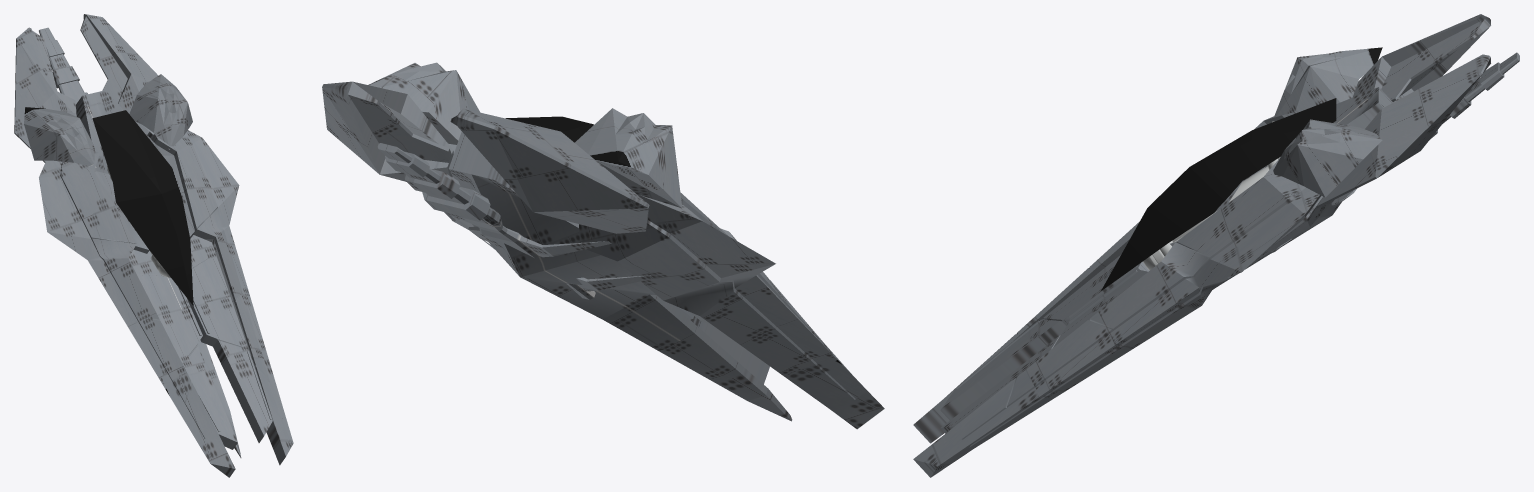
File: wecl4.fbx
The picture shows the model from 3 angles, left to right: view 1: azimuth 30°, elevation 25°; view 2: azimuth 150°, elevation 25°; view 3: azimuth 270°, elevation 25°; orthographic projection. The views are drawn at different scales.
Visible parts, largest first — view 1: polySurface3256, polySurface3234; view 2: polySurface3256, polySurface3234; view 3: polySurface3256, polySurface3234.
Part boxes in pixels (x1,y1,x2,y2): polySurface3256: (14, 14, 293, 477); polySurface3234: (92, 110, 193, 305); polySurface3256: (322, 62, 884, 429); polySurface3234: (505, 116, 593, 142); polySurface3256: (913, 14, 1519, 477); polySurface3234: (1101, 98, 1336, 290).
Size of the model in its own units: 3.97 by 6.03 by 7.77.
